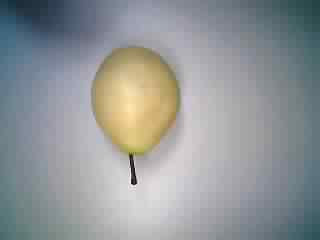pear: (75, 38, 192, 187)
